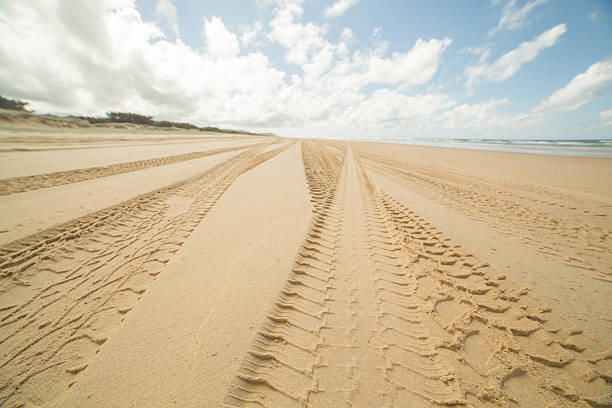vehicle_track: (223, 142, 611, 407), (0, 145, 288, 405), (375, 191, 611, 406), (358, 150, 611, 281), (0, 142, 266, 195)
